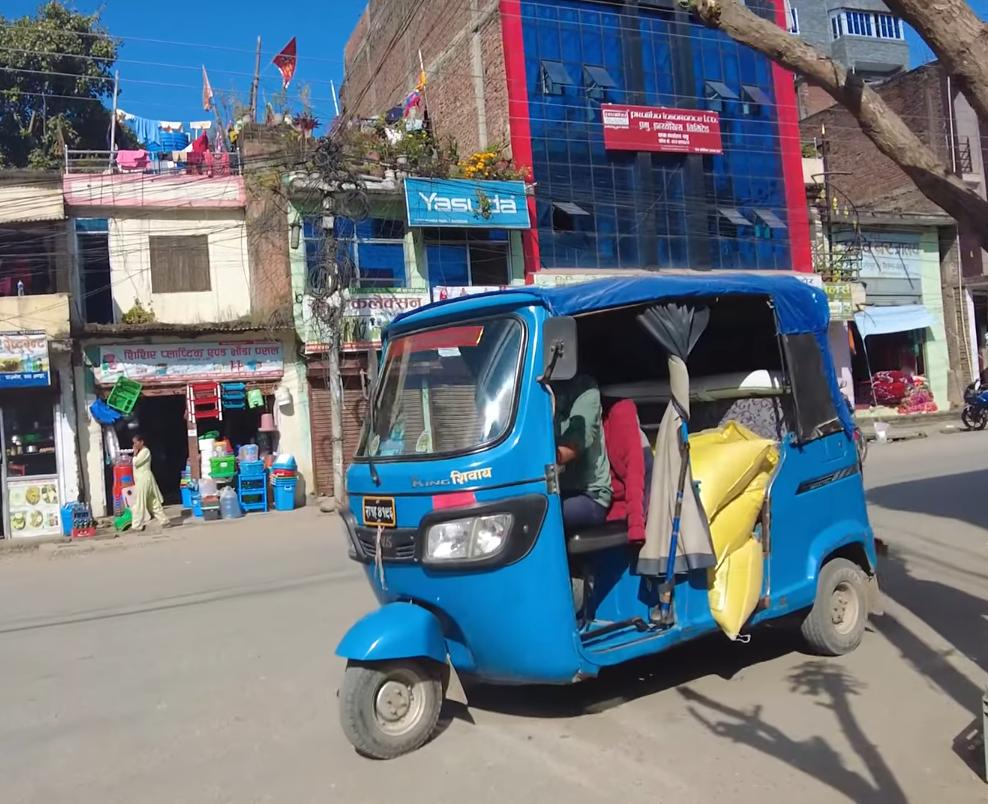auto_rickshaw: (315, 259, 885, 765)
